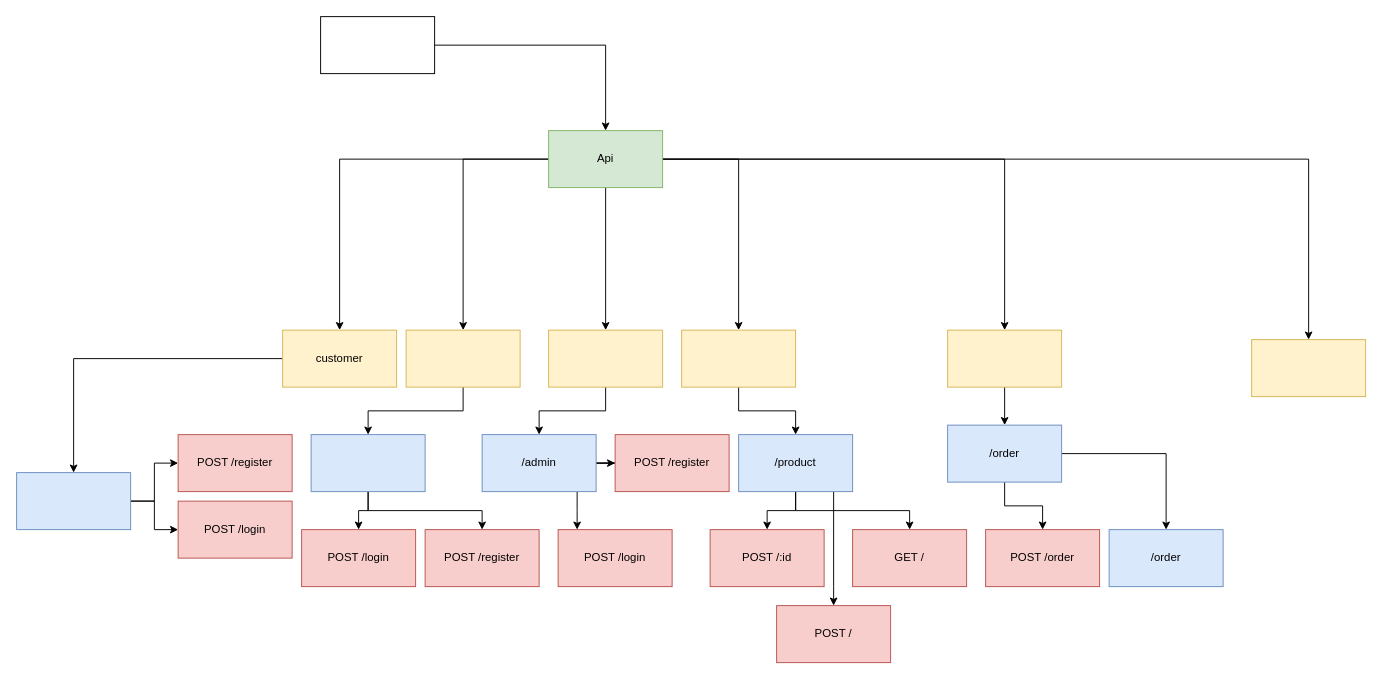
This 1382x679 diagram has some shape labels left out. Here are the shapes that lost their labels. From the top down, the centre of each, then its label:
At (x=377, y=45): "Food App".
At (x=462, y=358): "vendor".
At (x=605, y=358): "admin".
At (x=738, y=358): "product".
At (x=1004, y=358): "order".
At (x=1308, y=368): "cart".
At (x=367, y=463): "/vendor".
At (x=73, y=501): "/customer".
